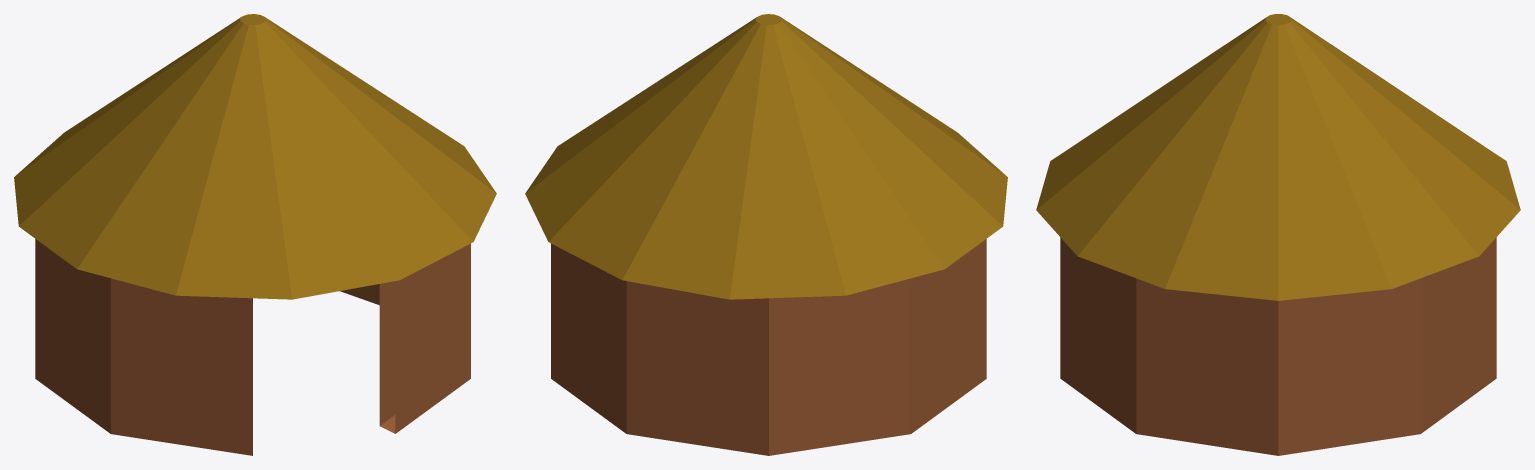
Rendered from beach_hut1.fbx.
3 renders of one model, left to right at view 1: azimuth 30°, elevation 25°; view 2: azimuth 150°, elevation 25°; view 3: azimuth 270°, elevation 25°, orthographic.
Visible parts, largest first — view 1: Cone, Tube; view 2: Cone, Tube; view 3: Cone, Tube.
Boxes of the visible parts, x1=… form: Cone: x1=14, y1=14, x2=496, y2=299; Tube: x1=35, y1=239, x2=470, y2=455; Cone: x1=525, y1=14, x2=1007, y2=299; Tube: x1=551, y1=239, x2=986, y2=455; Cone: x1=1036, y1=14, x2=1520, y2=300; Tube: x1=1060, y1=237, x2=1496, y2=455.
Size of the model in its own units: 254 by 200 by 256.
